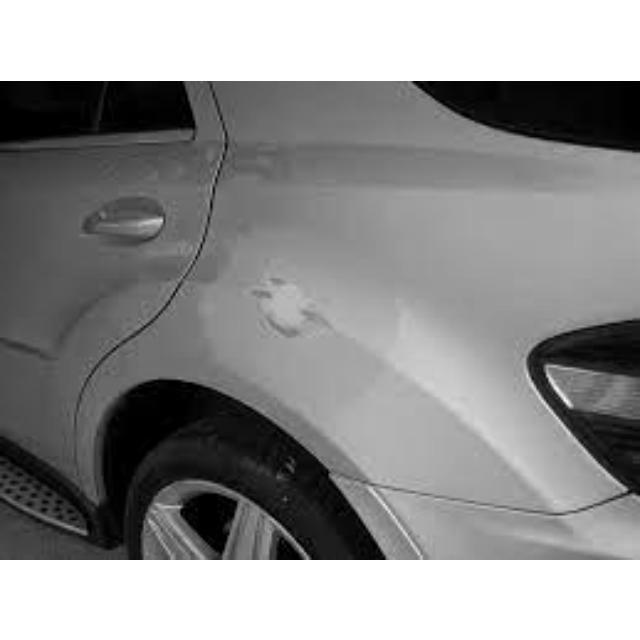quaterpanel-dent: (136, 202, 548, 473)
